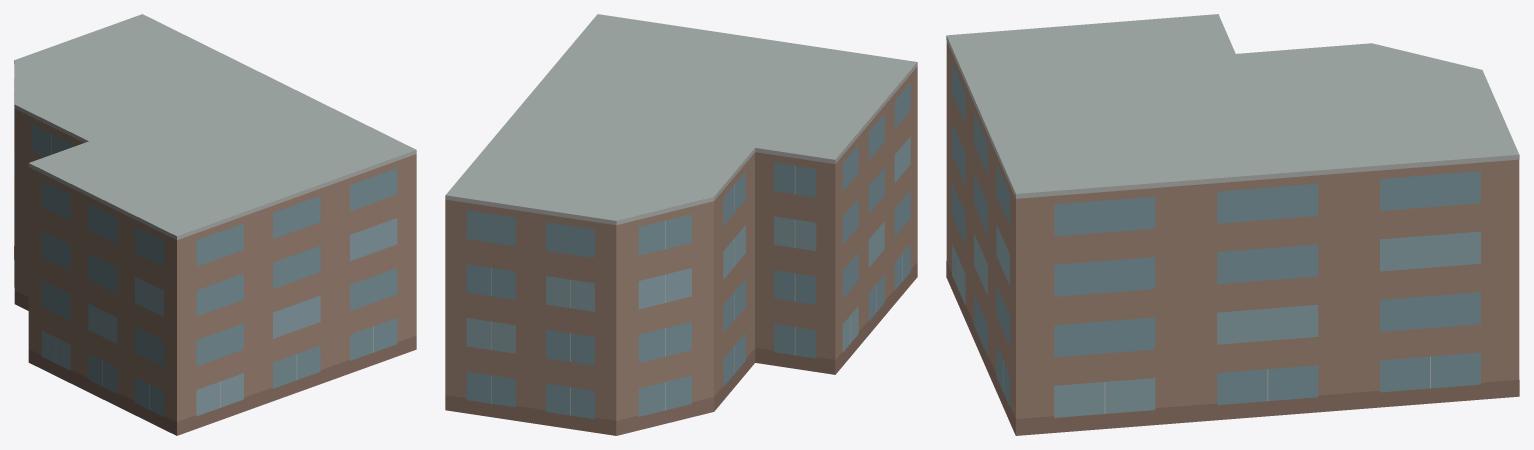
Rendered from residential-64dfafe7-ee8b-4a54-b9b4-acdf5b19c4ff.glb.
3 renders of one model, left to right at view 1: azimuth 30°, elevation 25°; view 2: azimuth 150°, elevation 25°; view 3: azimuth 270°, elevation 25°, orthographic. The views are drawn at different scales.
Visible parts, largest first — view 1: residential-64dfafe7-ee8b-4a54-b9b4-acdf5b19c4ff.tmp; view 2: residential-64dfafe7-ee8b-4a54-b9b4-acdf5b19c4ff.tmp; view 3: residential-64dfafe7-ee8b-4a54-b9b4-acdf5b19c4ff.tmp.
Boxes of the visible parts, bbox=[...] form: residential-64dfafe7-ee8b-4a54-b9b4-acdf5b19c4ff.tmp: bbox=[14, 14, 416, 435]; residential-64dfafe7-ee8b-4a54-b9b4-acdf5b19c4ff.tmp: bbox=[445, 14, 917, 435]; residential-64dfafe7-ee8b-4a54-b9b4-acdf5b19c4ff.tmp: bbox=[946, 14, 1519, 435].
Bounding box in the file's own units: 19.48 × 12.2 × 26.21.
